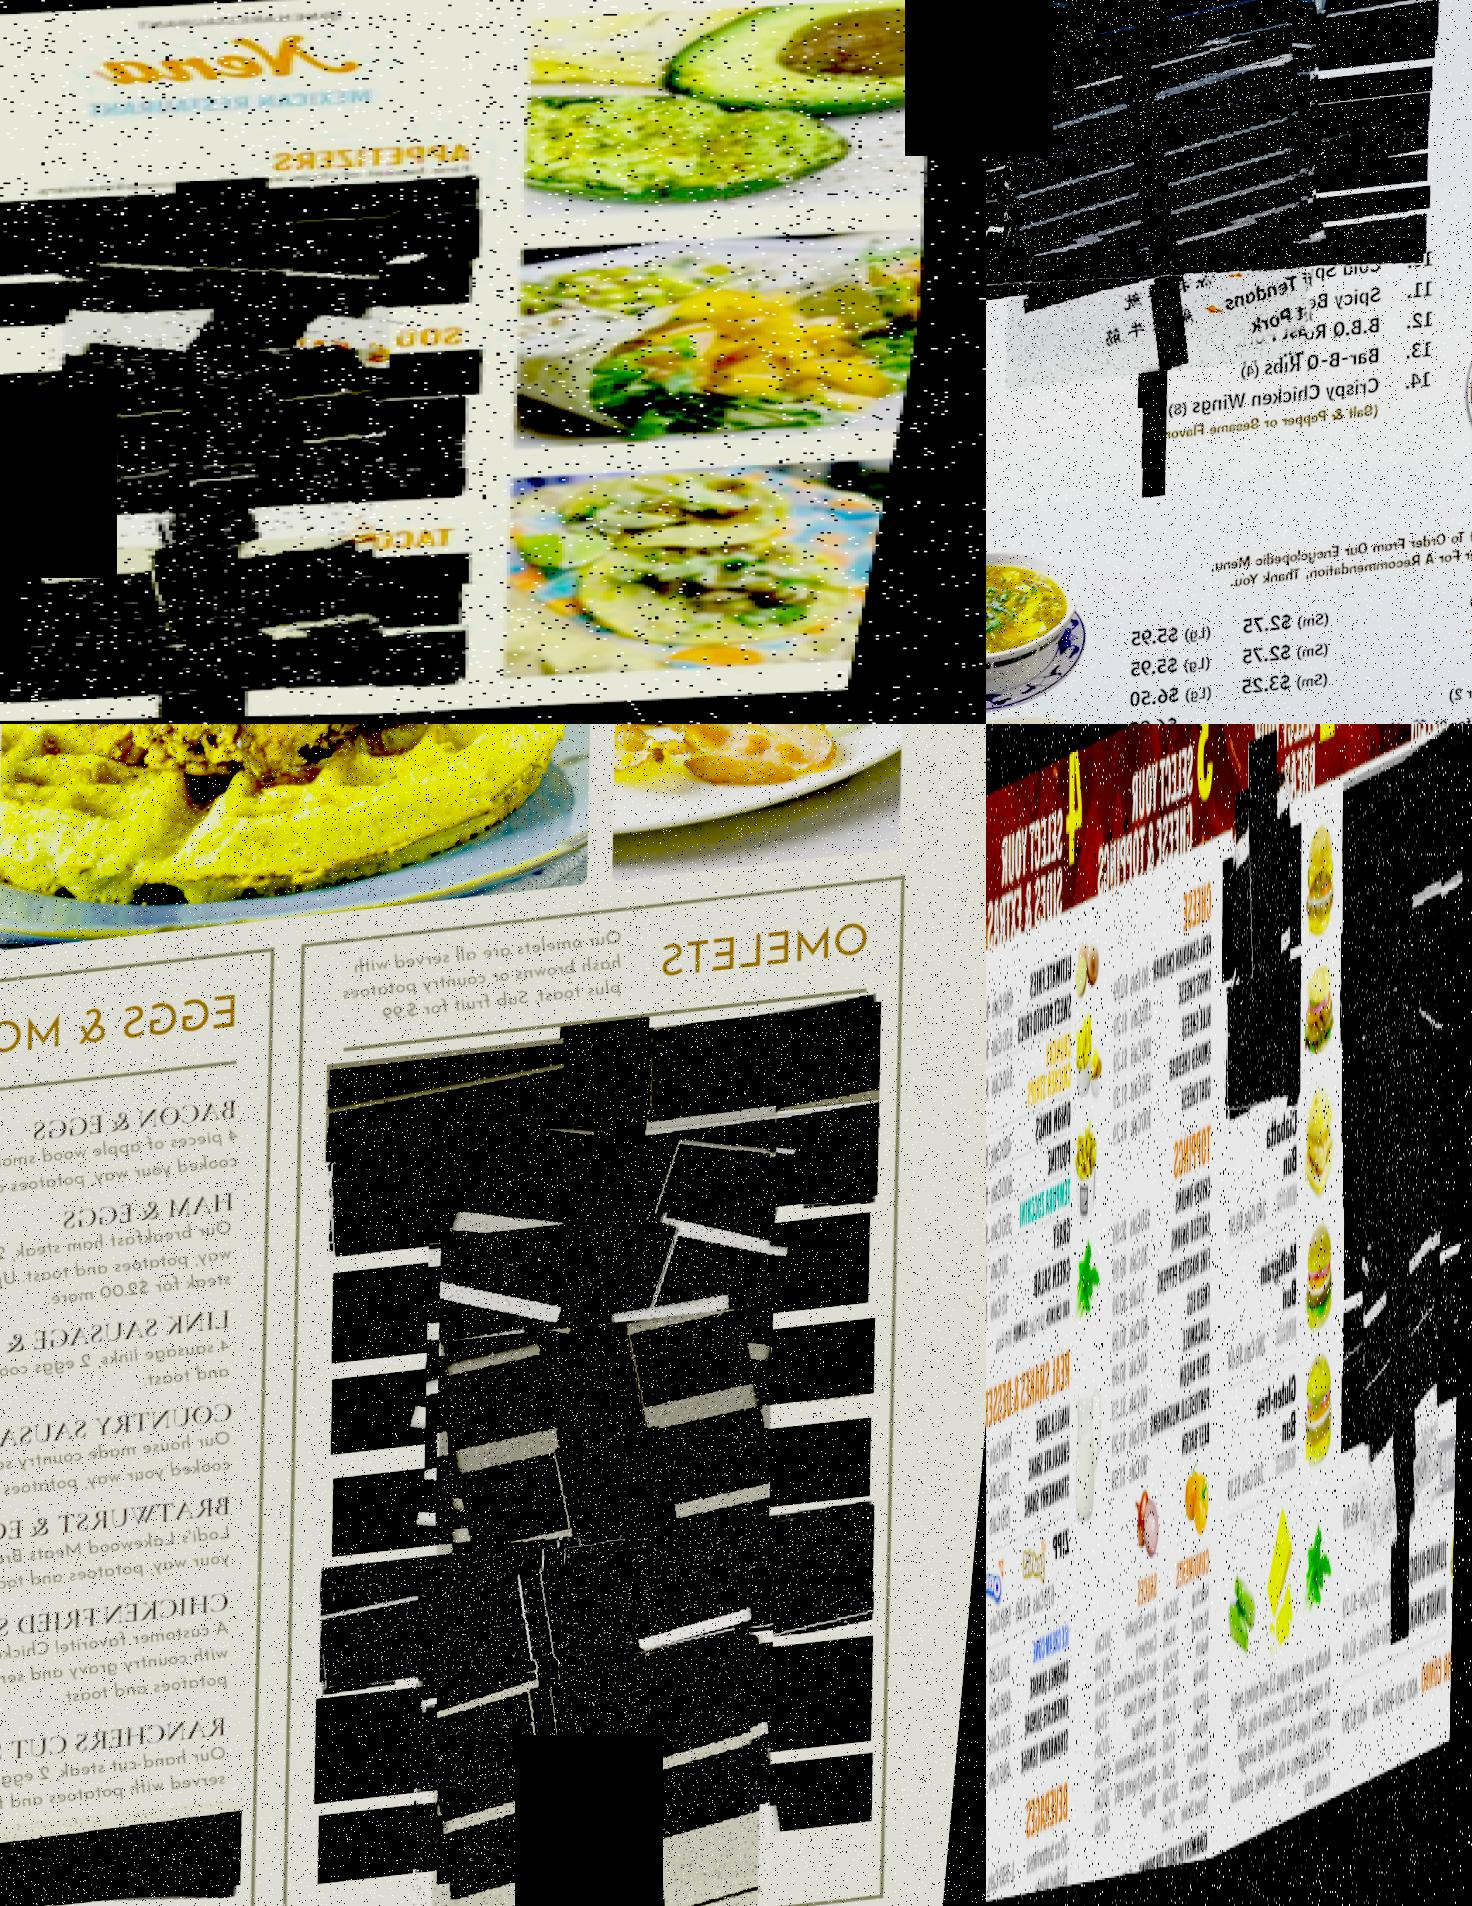Menu-Items: (425, 1108, 819, 1490), (421, 1535, 826, 1906), (433, 1210, 818, 1583), (438, 1317, 815, 1680), (993, 36, 1337, 368), (994, 66, 1334, 396), (986, 0, 1337, 309), (339, 1518, 909, 1702), (986, 0, 1341, 283), (439, 1648, 813, 1906), (334, 1016, 905, 1175), (986, 0, 1344, 254), (340, 1116, 905, 1271), (36, 301, 422, 471), (42, 213, 414, 379), (34, 351, 407, 515), (1084, 1462, 1225, 1889), (48, 541, 410, 700), (56, 507, 414, 662), (986, 371, 1452, 478), (0, 1584, 278, 1761), (986, 209, 1436, 314), (1102, 1130, 1225, 1512), (986, 5, 1443, 99), (0, 1190, 267, 1350), (986, 125, 1435, 218), (986, 246, 1447, 335), (0, 1707, 277, 1853), (0, 1298, 269, 1448), (0, 442, 490, 524), (986, 339, 1450, 425), (0, 628, 498, 708), (0, 1394, 275, 1540), (0, 1489, 274, 1634), (986, 278, 1449, 363), (986, 308, 1447, 393), (0, 1096, 269, 1234), (0, 213, 495, 286), (1104, 873, 1220, 1164), (1359, 895, 1447, 1268), (986, 0, 1444, 71), (1136, 566, 1472, 659), (1339, 1523, 1458, 1779), (1362, 1064, 1447, 1418), (1135, 600, 1472, 688), (0, 181, 489, 241), (1362, 985, 1446, 1337), (1362, 1229, 1446, 1577), (1136, 629, 1472, 714), (0, 1806, 278, 1906), (1341, 742, 1466, 952), (1140, 655, 1472, 723), (1339, 897, 1464, 1062), (986, 914, 1101, 1071), (1229, 782, 1294, 1053), (986, 1009, 1104, 1144), (1222, 969, 1303, 1150), (1344, 1274, 1461, 1393), (1222, 1104, 1303, 1269), (1223, 1241, 1305, 1405), (1223, 1374, 1303, 1537), (1140, 693, 1472, 723)
